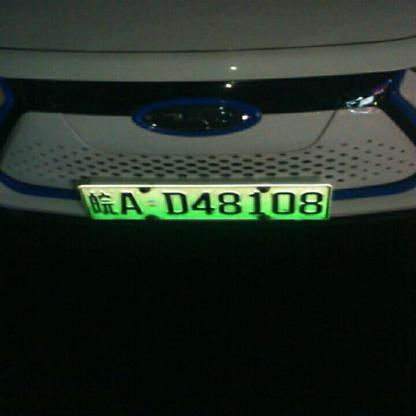lp: (79, 182, 331, 219)
